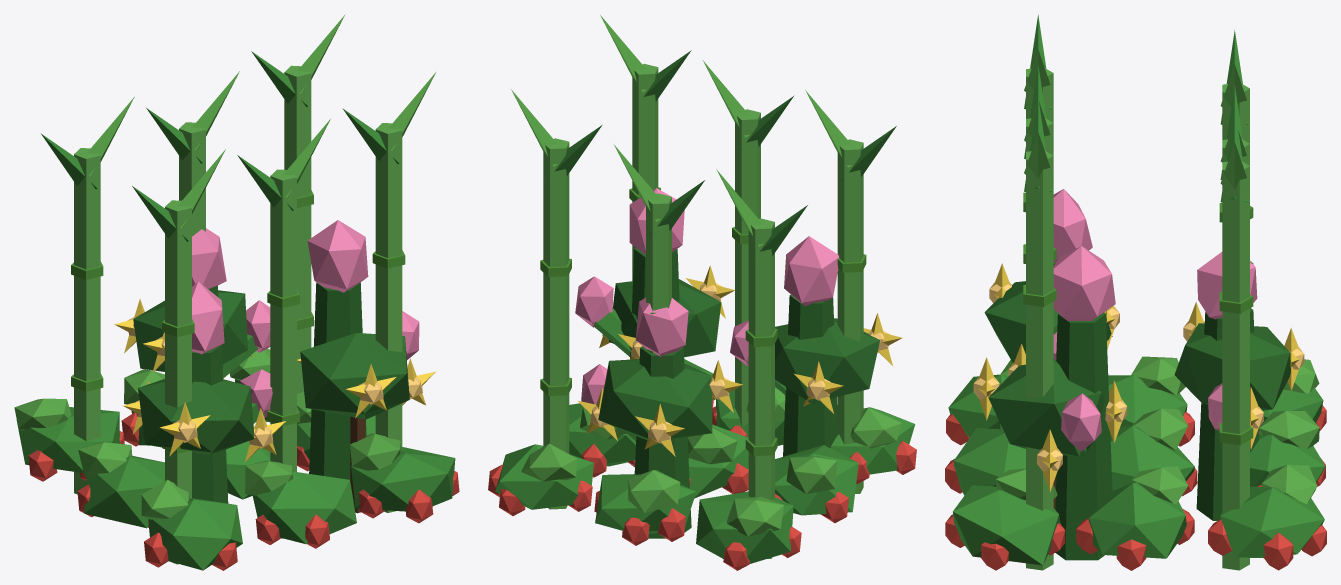
File: Props_new.fbx
The picture shows the model from 3 angles, left to right: view 1: azimuth 30°, elevation 25°; view 2: azimuth 150°, elevation 25°; view 3: azimuth 270°, elevation 25°; orthographic projection. The views are drawn at different scales.
Parts seen in each view (by area): view 1: Crop_Sugarcane, Crop_Strawberry, Crop_Starfruit, Crop_Dragonfruit; view 2: Crop_Sugarcane, Crop_Strawberry, Crop_Starfruit, Crop_Dragonfruit; view 3: Crop_Strawberry, Crop_Sugarcane, Crop_Dragonfruit, Crop_Starfruit.
Boxes of the visible parts, left/top/right/bottom form: Crop_Sugarcane: left=41, top=14, right=435, bottom=564; Crop_Strawberry: left=14, top=348, right=459, bottom=570; Crop_Starfruit: left=114, top=290, right=435, bottom=513; Crop_Dragonfruit: left=192, top=220, right=419, bottom=503; Crop_Sugarcane: left=511, top=15, right=896, bottom=558; Crop_Strawberry: left=488, top=359, right=916, bottom=570; Crop_Starfruit: left=578, top=265, right=902, bottom=456; Crop_Dragonfruit: left=575, top=188, right=839, bottom=538; Crop_Strawberry: left=945, top=356, right=1326, bottom=570; Crop_Sugarcane: left=1023, top=14, right=1253, bottom=570; Crop_Dragonfruit: left=1053, top=189, right=1258, bottom=560; Crop_Starfruit: left=973, top=263, right=1304, bottom=509.
Size of the model in its own units: 3.56 by 4.62 by 3.5.
1 material, 1 textured.
